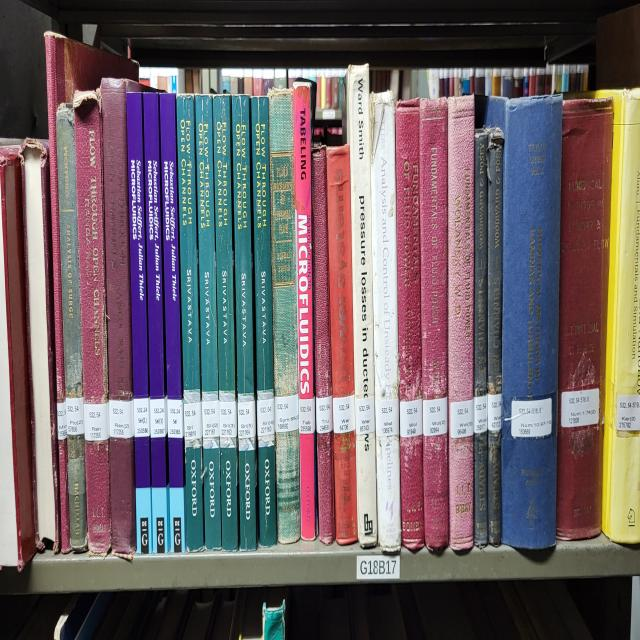Book: (485, 95, 562, 549), (556, 97, 614, 541), (101, 78, 138, 560), (74, 89, 111, 555), (269, 89, 301, 544), (348, 65, 378, 547), (56, 103, 88, 549), (370, 92, 401, 552), (395, 97, 424, 549), (420, 97, 449, 549), (142, 95, 170, 552), (326, 146, 358, 544), (176, 95, 204, 549), (212, 95, 239, 549), (231, 95, 258, 549), (448, 95, 475, 549), (251, 97, 278, 547), (126, 92, 152, 555), (160, 95, 186, 552), (195, 95, 221, 549), (294, 84, 316, 541), (45, 32, 66, 411), (488, 127, 504, 544), (474, 130, 489, 547), (311, 149, 332, 398), (59, 433, 70, 552)
Label: (511, 398, 552, 438), (561, 387, 600, 427), (422, 398, 448, 436), (450, 398, 474, 438), (84, 403, 109, 441), (109, 400, 134, 438), (275, 395, 299, 433), (375, 398, 399, 436), (400, 398, 422, 438), (332, 395, 355, 433), (616, 395, 640, 430), (355, 395, 375, 436), (256, 398, 275, 438), (184, 400, 202, 441), (65, 398, 84, 436), (219, 400, 238, 438), (150, 398, 168, 438), (201, 398, 219, 438), (238, 398, 256, 438), (315, 395, 332, 433), (134, 398, 150, 438), (168, 398, 184, 438), (488, 392, 502, 433), (299, 398, 315, 433), (474, 395, 488, 433), (56, 400, 68, 441)
